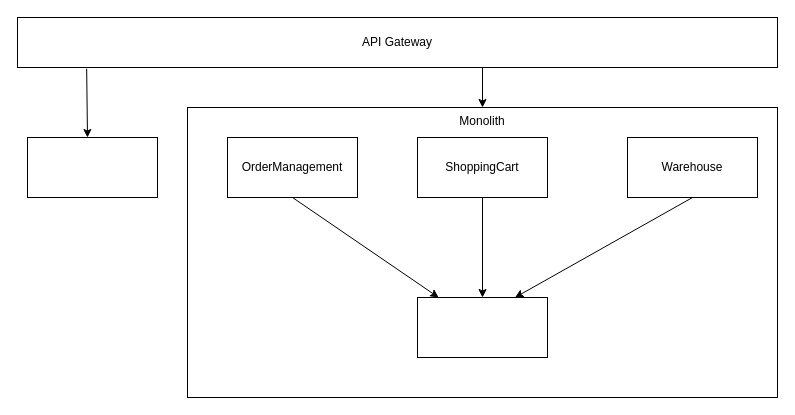
The diagram is 795 pixels wide and 415 high, and some of its shapes have lost their labels. The centre of each missing label's shape, as x and y in pixels:
<fictituous> Product presentation: (x=92, y=167)
Notifications: (x=482, y=327)
